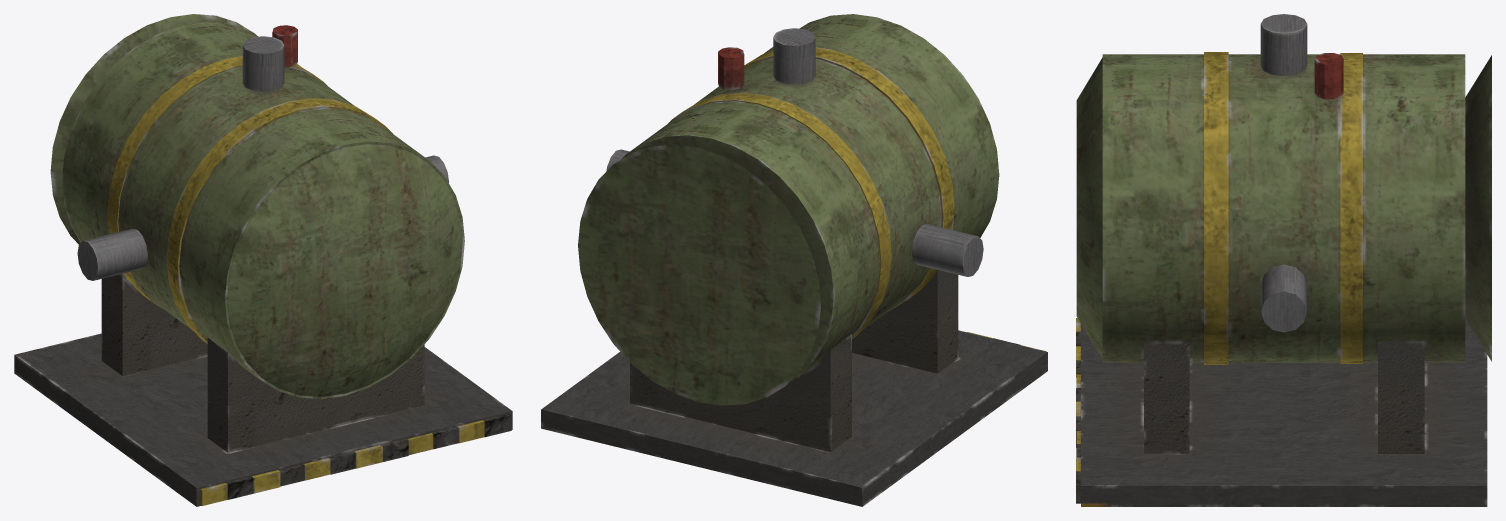
File: feTankGas_HD.fbx
3 views of the same model, side by side, from view 1: azimuth 30°, elevation 25°; view 2: azimuth 150°, elevation 25°; view 3: azimuth 270°, elevation 25° (orthographic). The views are drawn at different scales.
Visible parts, largest first — view 1: feTankGas_Base; view 2: feTankGas_Base; view 3: feTankGas_Base.
Boxes of the visible parts, bbox=[...] form: feTankGas_Base: bbox=[14, 14, 512, 506]; feTankGas_Base: bbox=[541, 14, 1047, 506]; feTankGas_Base: bbox=[1076, 14, 1491, 506].
Size of the model in its own units: 1 by 0.9724 by 0.9227.
1 material, 1 textured.
